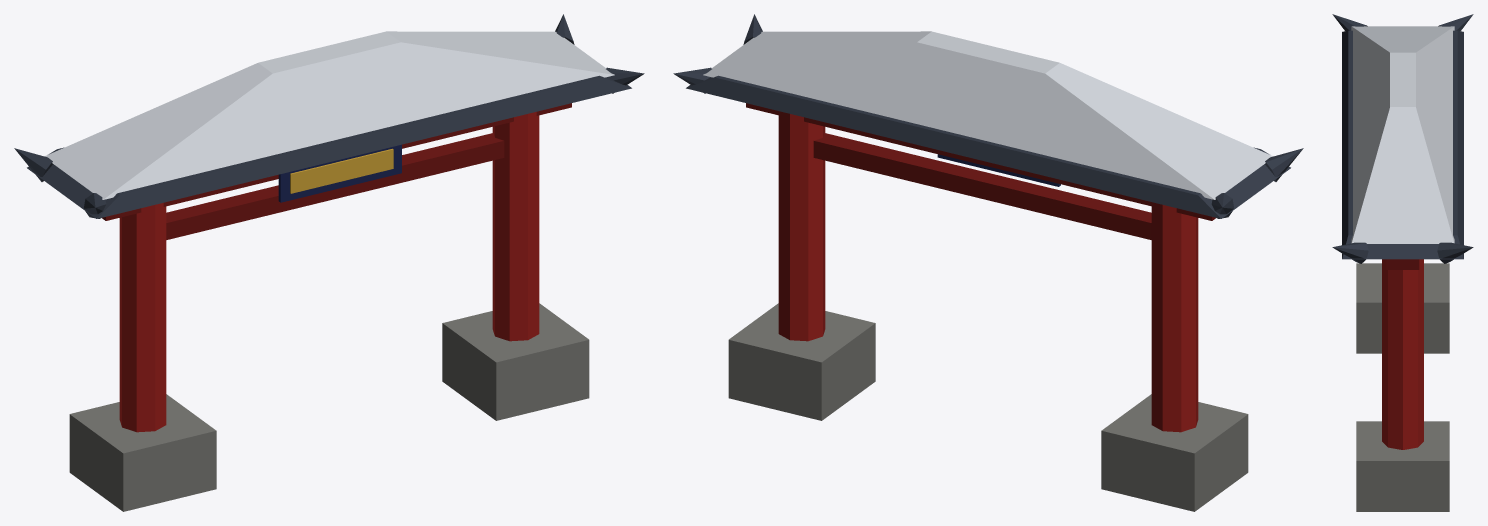
The model's file is SM_GZ_gate_frost.fbx.
3 renders of one model, left to right at view 1: azimuth 30°, elevation 25°; view 2: azimuth 150°, elevation 25°; view 3: azimuth 270°, elevation 25°, orthographic. The views are drawn at different scales.
Parts seen in each view (by area): view 1: SM_GZ_gate_frost; view 2: SM_GZ_gate_frost; view 3: SM_GZ_gate_frost.
Boxes of the visible parts, x1,y1,x2,y2 form: SM_GZ_gate_frost: (14, 14, 644, 511); SM_GZ_gate_frost: (673, 14, 1303, 511); SM_GZ_gate_frost: (1332, 14, 1473, 511).
Bounding box in the file's own units: 1179 × 785 × 303.
